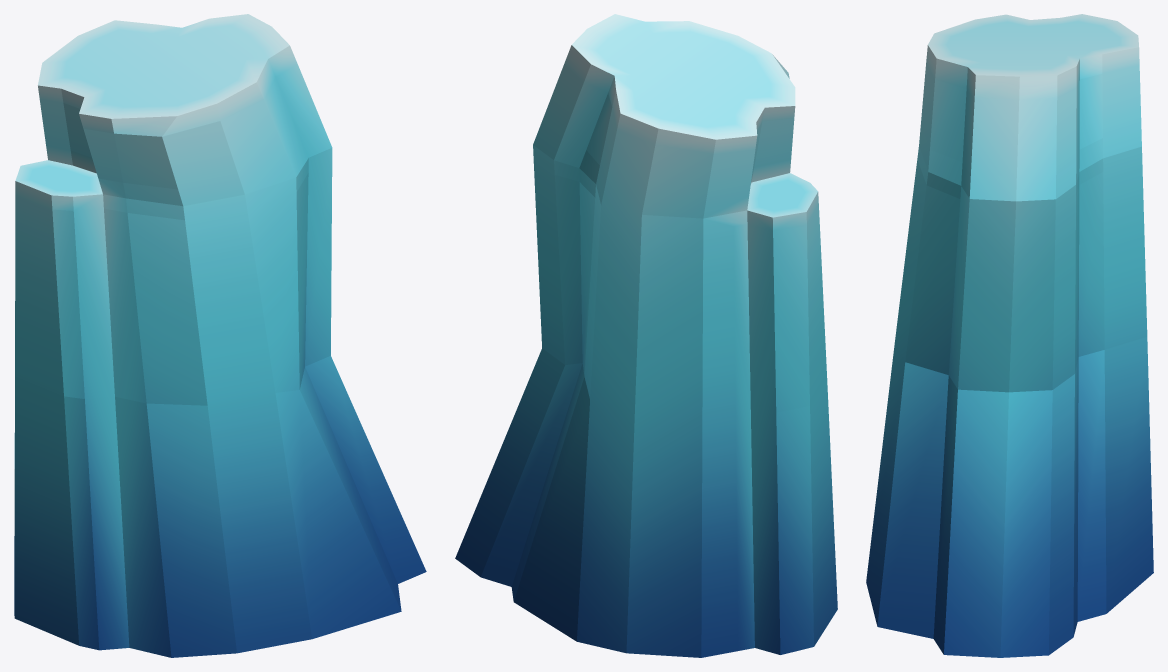
The model's file is Prop_Ice_Block_C.fbx.
3 views of the same model, side by side, from view 1: azimuth 30°, elevation 25°; view 2: azimuth 150°, elevation 25°; view 3: azimuth 270°, elevation 25° (orthographic). The views are drawn at different scales.
Parts seen in each view (by area): view 1: Prop_Ice_Block_C; view 2: Prop_Ice_Block_C; view 3: Prop_Ice_Block_C.
Part boxes in pixels (x1=…): Prop_Ice_Block_C: x1=14, y1=14, x2=426, y2=657; Prop_Ice_Block_C: x1=455, y1=14, x2=837, y2=657; Prop_Ice_Block_C: x1=866, y1=14, x2=1153, y2=657.
Bounding box in the file's own units: 82.17 × 118 × 58.55.
1 material, 1 textured.
